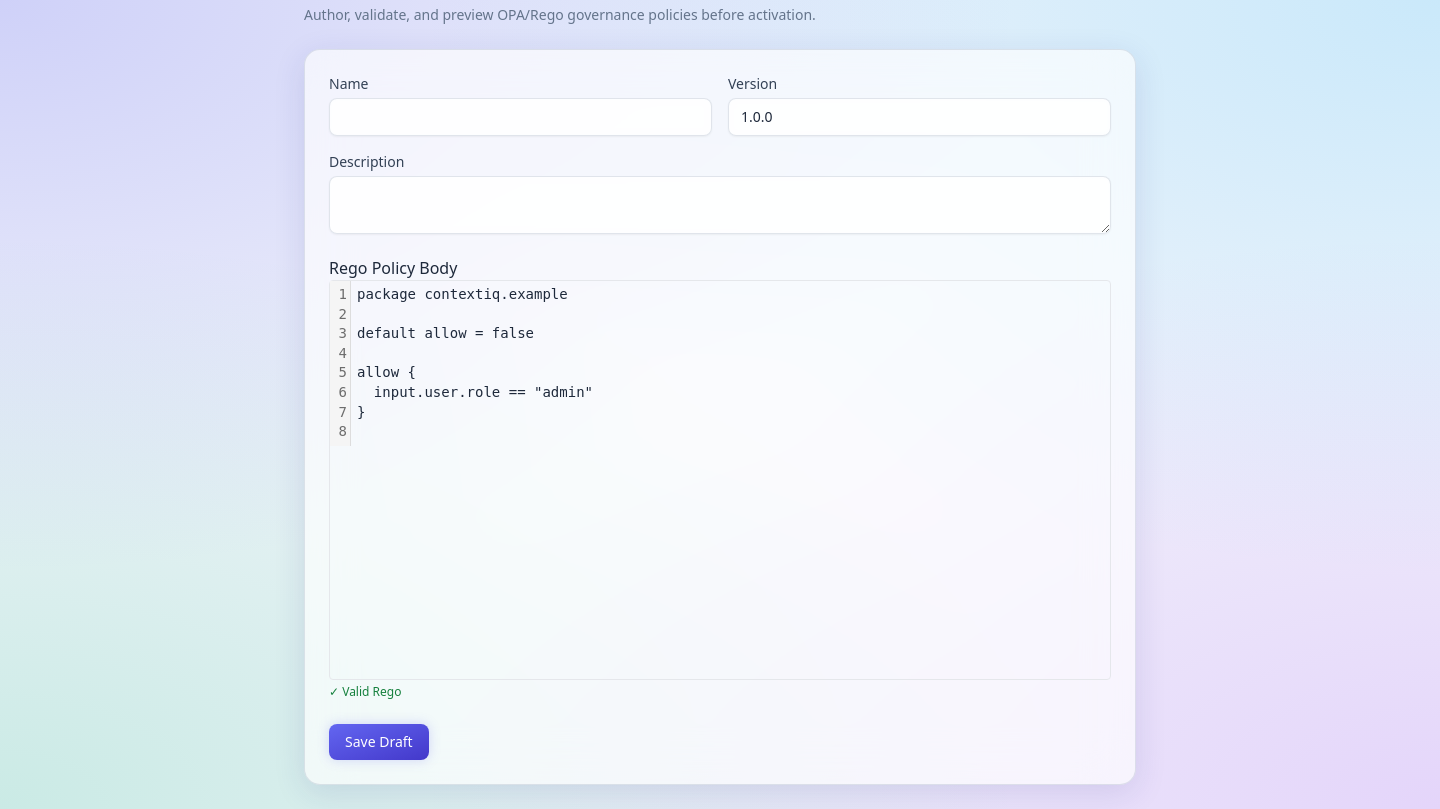
Scenario: PolicyDetailPage › shows validation error when name is empty on submit
This screenshot has width=1440, height=809.
(page scrolled)
Click the button "Save Draft" at (379, 742), box [329,724,429,760]
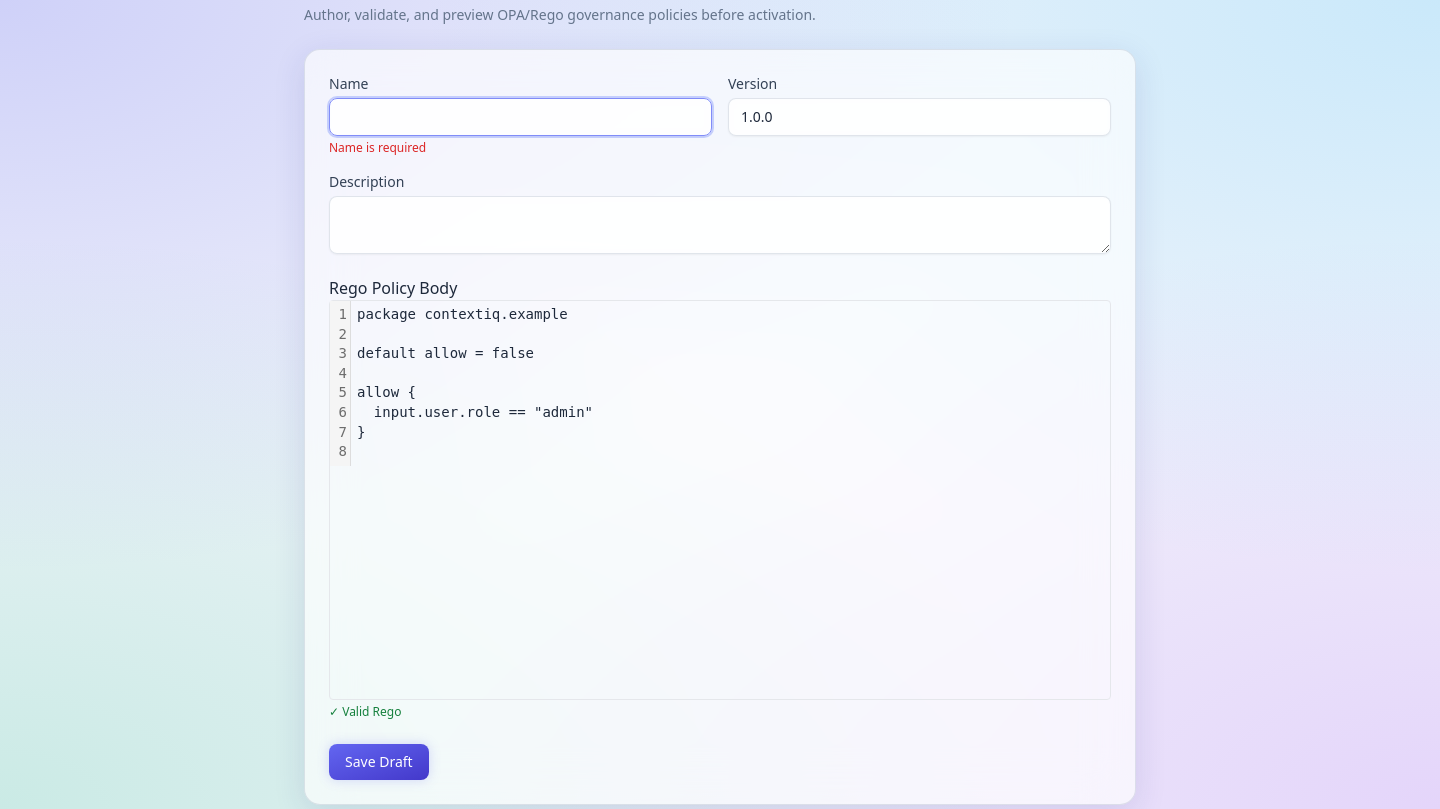
Result: the text "Name is required" is shown at [329,139,426,156]
